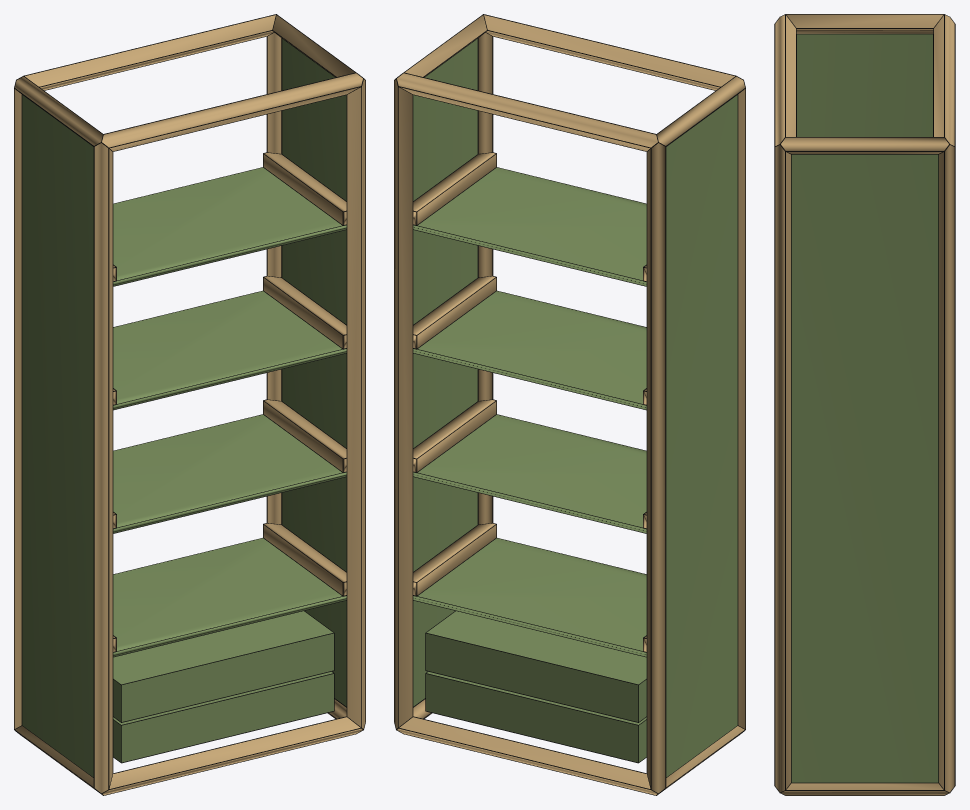
File: 008-dressing-moyenne.glb
The picture shows the model from 3 angles, left to right: view 1: azimuth 30°, elevation 25°; view 2: azimuth 150°, elevation 25°; view 3: azimuth 270°, elevation 25°; orthographic projection.
Parts seen in each view (by area): view 1: panneau-joue1, panneau-joue2, tablette-plate-mod-0, tablette-plate-mod-1, tablette-plate-mod-3, tablette-plate-mod-2, mod-drawer-1, arete-Z0, arete-Z1, mod-drawer-0, arete-Z2, arete-X2 (+23 smaller); view 2: panneau-joue1, panneau-joue2, tablette-plate-mod-0, tablette-plate-mod-1, tablette-plate-mod-3, tablette-plate-mod-2, mod-drawer-1, arete-Z2, arete-Z3, mod-drawer-0, arete-Z0, arete-X3 (+23 smaller); view 3: panneau-joue2, panneau-joue1, arete-Z1, arete-Z3, arete-Y2, arete-Y3, arete-X2, arete-X3, arete-wire-Z1, arete-wire-Z3, arete-Y1, panneau-wire-joue2 (+6 smaller).
Part boxes in pixels (left/top/right/bottom): panneau-joue1: left=22, top=95, right=93, bottom=777; panneau-joue2: left=282, top=39, right=346, bottom=706; tablette-plate-mod-0: left=113, top=538, right=346, bottom=656; tablette-plate-mod-1: left=113, top=414, right=346, bottom=533; tablette-plate-mod-3: left=113, top=167, right=346, bottom=285; tablette-plate-mod-2: left=113, top=291, right=346, bottom=409; mod-drawer-1: left=113, top=611, right=333, bottom=721; arete-Z0: left=94, top=143, right=112, bottom=793; arete-Z1: left=347, top=79, right=365, bottom=728; mod-drawer-0: left=113, top=671, right=333, bottom=762; arete-Z2: left=14, top=89, right=21, bottom=728; arete-X2: left=102, top=73, right=362, bottom=151; panneau-joue1: left=666, top=95, right=737, bottom=777; panneau-joue2: left=413, top=39, right=477, bottom=706; tablette-plate-mod-0: left=413, top=538, right=646, bottom=656; tablette-plate-mod-1: left=413, top=414, right=646, bottom=533; tablette-plate-mod-3: left=413, top=167, right=646, bottom=285; tablette-plate-mod-2: left=413, top=291, right=646, bottom=409; mod-drawer-1: left=426, top=611, right=646, bottom=721; arete-Z2: left=647, top=143, right=665, bottom=793; arete-Z3: left=394, top=79, right=412, bottom=728; mod-drawer-0: left=426, top=671, right=646, bottom=762; arete-Z0: left=738, top=89, right=745, bottom=728; arete-X3: left=397, top=73, right=657, bottom=151; panneau-joue2: left=791, top=154, right=938, bottom=782; panneau-joue1: left=797, top=34, right=932, bottom=136; arete-Z1: left=775, top=145, right=790, bottom=792; arete-Z3: left=939, top=145, right=954, bottom=792; arete-Y2: left=786, top=14, right=943, bottom=33; arete-Y3: left=781, top=137, right=948, bottom=153; arete-X2: left=775, top=15, right=795, bottom=145; arete-X3: left=934, top=15, right=954, bottom=145; arete-wire-Z1: left=774, top=144, right=791, bottom=790; arete-wire-Z3: left=944, top=147, right=955, bottom=790; arete-Y1: left=781, top=783, right=948, bottom=795; panneau-wire-joue2: left=791, top=154, right=938, bottom=783.
Bounding box in the file's own units: 0.8309 × 1.93 × 0.4809.
